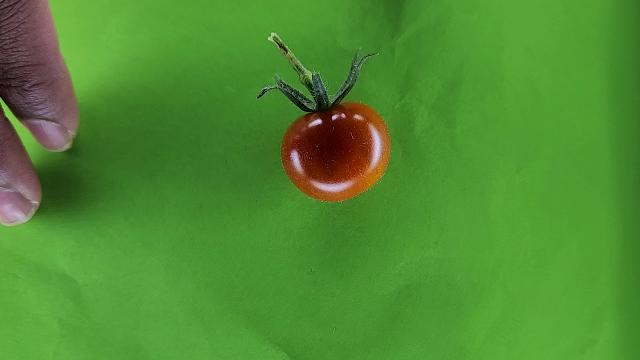Fully Grown: (279, 101, 392, 203)
